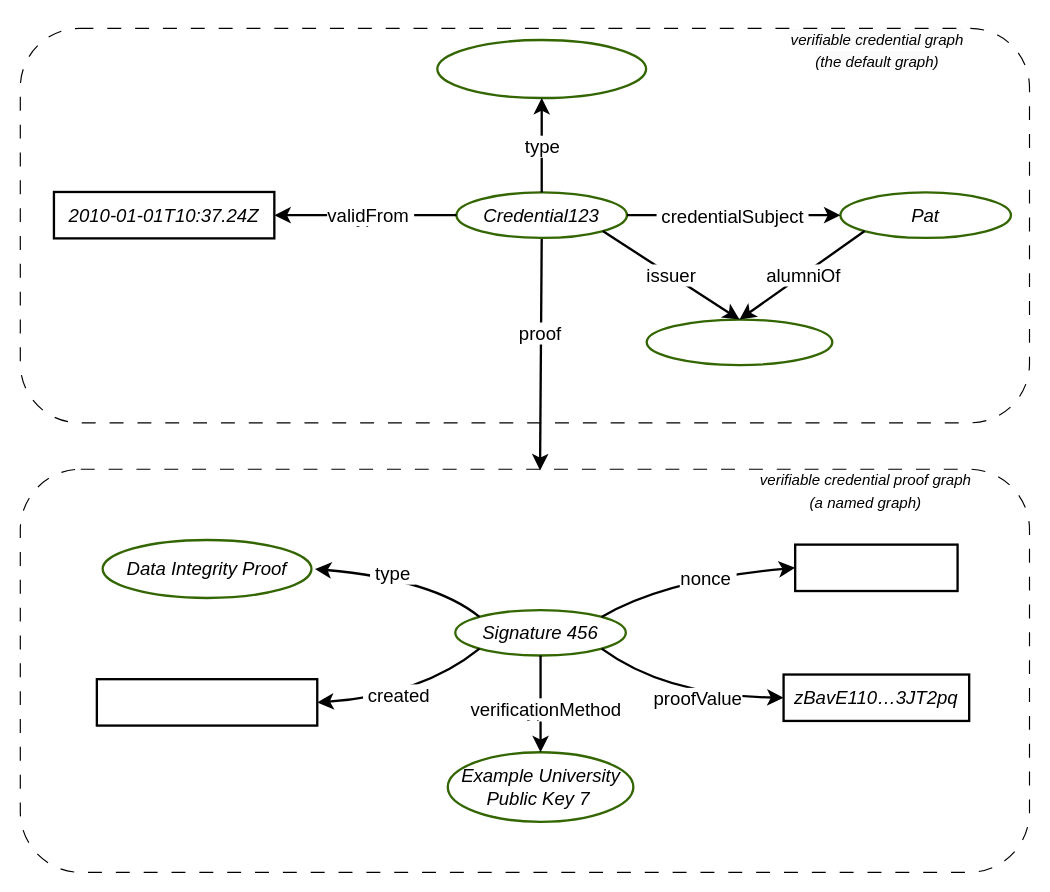
This 1050x892 diagram has some shape labels left out. The box of each missing label's shape, as (x1, y1, x2, y2) in pixels:
2022-06-18T21:19.10Z: (95, 677, 318, 726)
34dj239dsj328: (793, 543, 958, 592)
Example Alumni Credential: (436, 38, 647, 99)
Example University: (645, 318, 833, 366)
